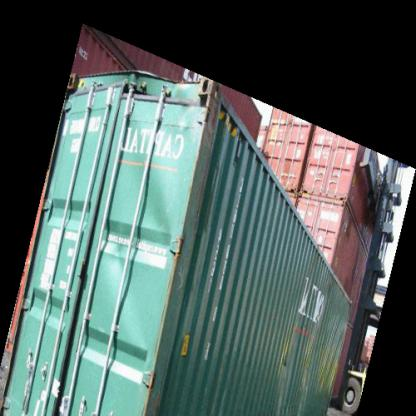Damage: (110, 70, 224, 236), (274, 265, 341, 415)
